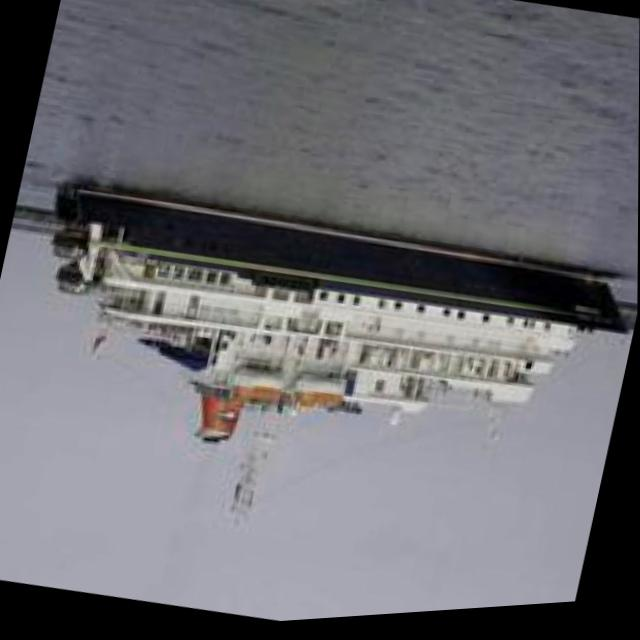ship2: (52, 183, 627, 519)
